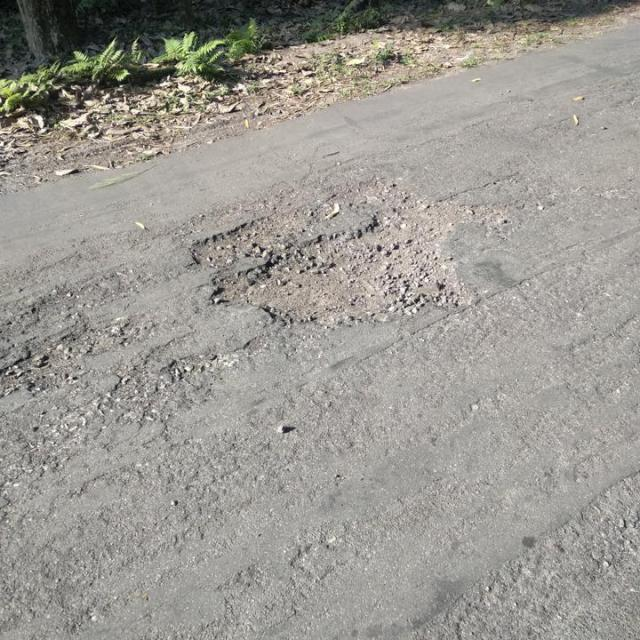pothole: (186, 175, 516, 331)
